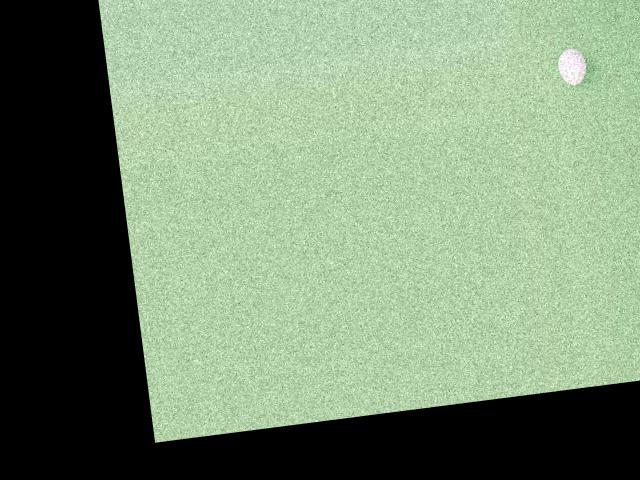egg: (555, 46, 588, 86)
